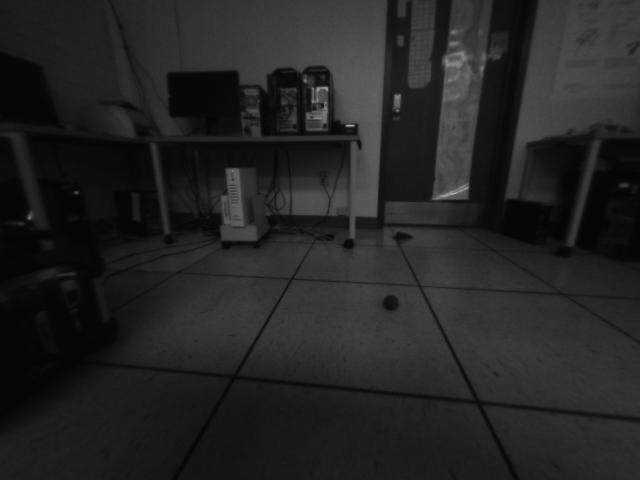dogtoy: (378, 291, 407, 318)
